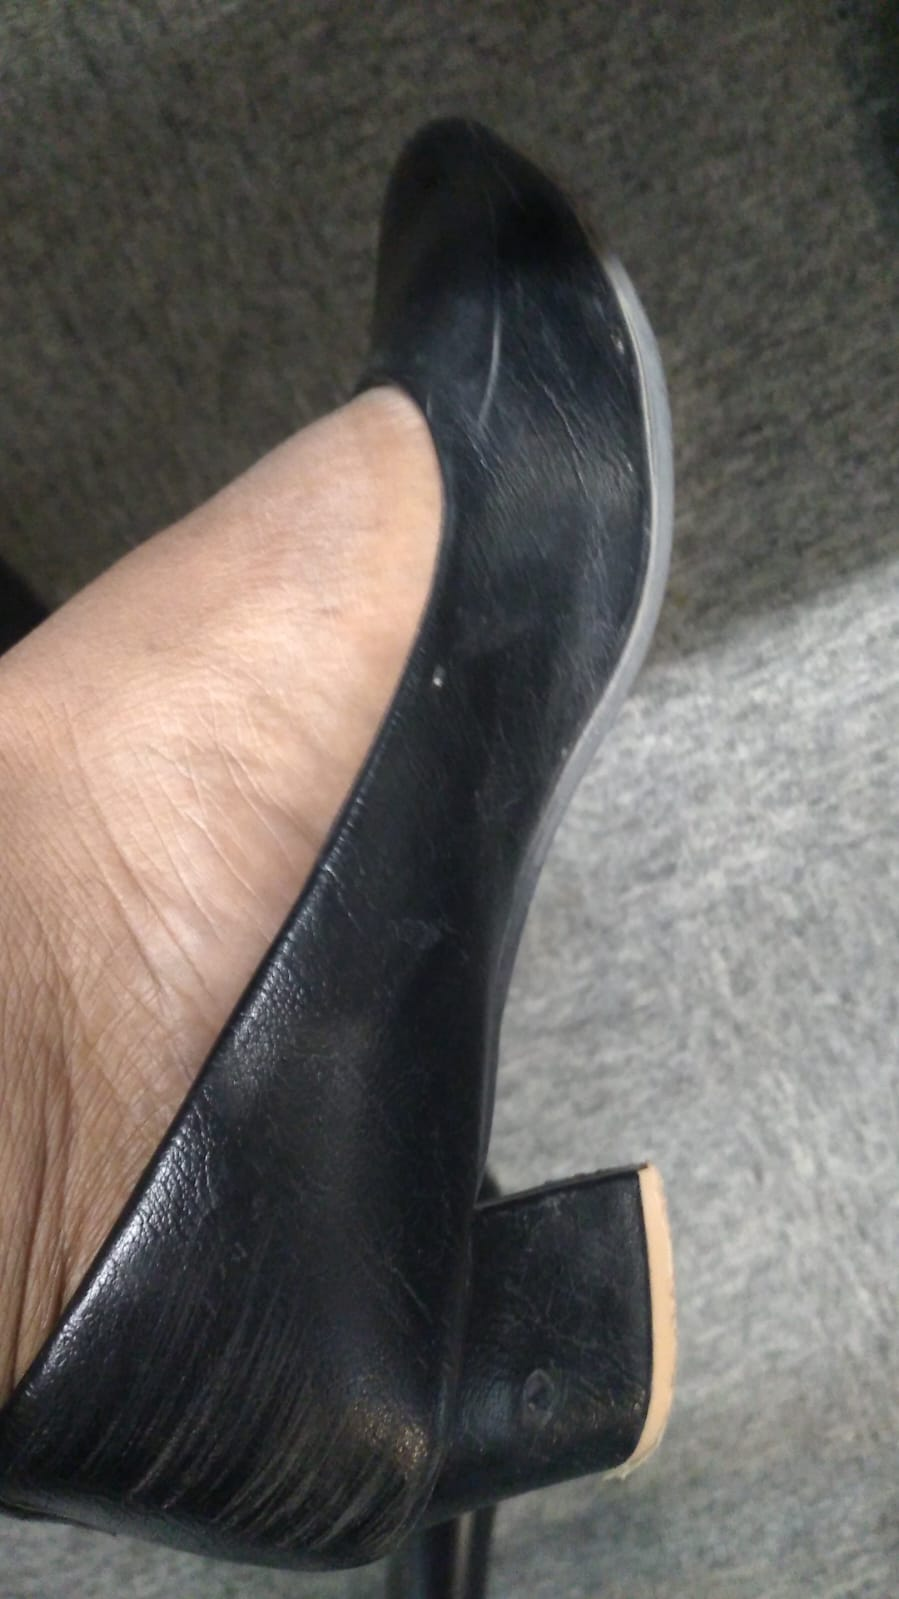Footwear: (23, 70, 730, 1585)
